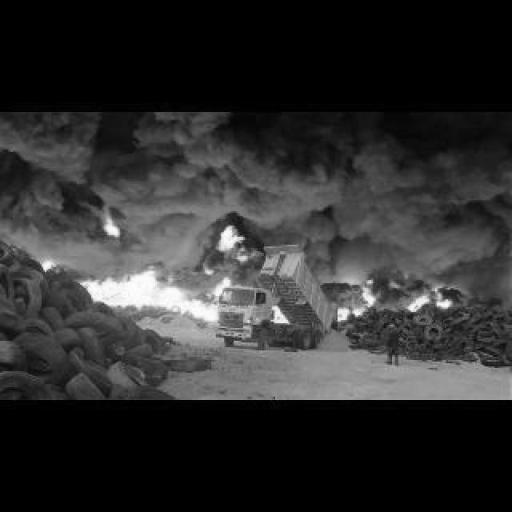smoke: (85, 270, 230, 324), (204, 219, 254, 269), (333, 278, 374, 322), (408, 283, 450, 317), (98, 216, 122, 238), (34, 256, 58, 277)
